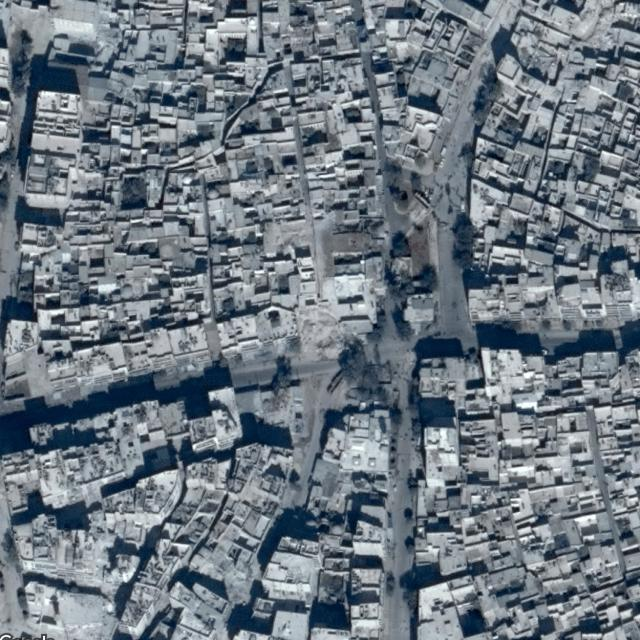damaged_building: (290, 306, 366, 366), (553, 0, 619, 52)
